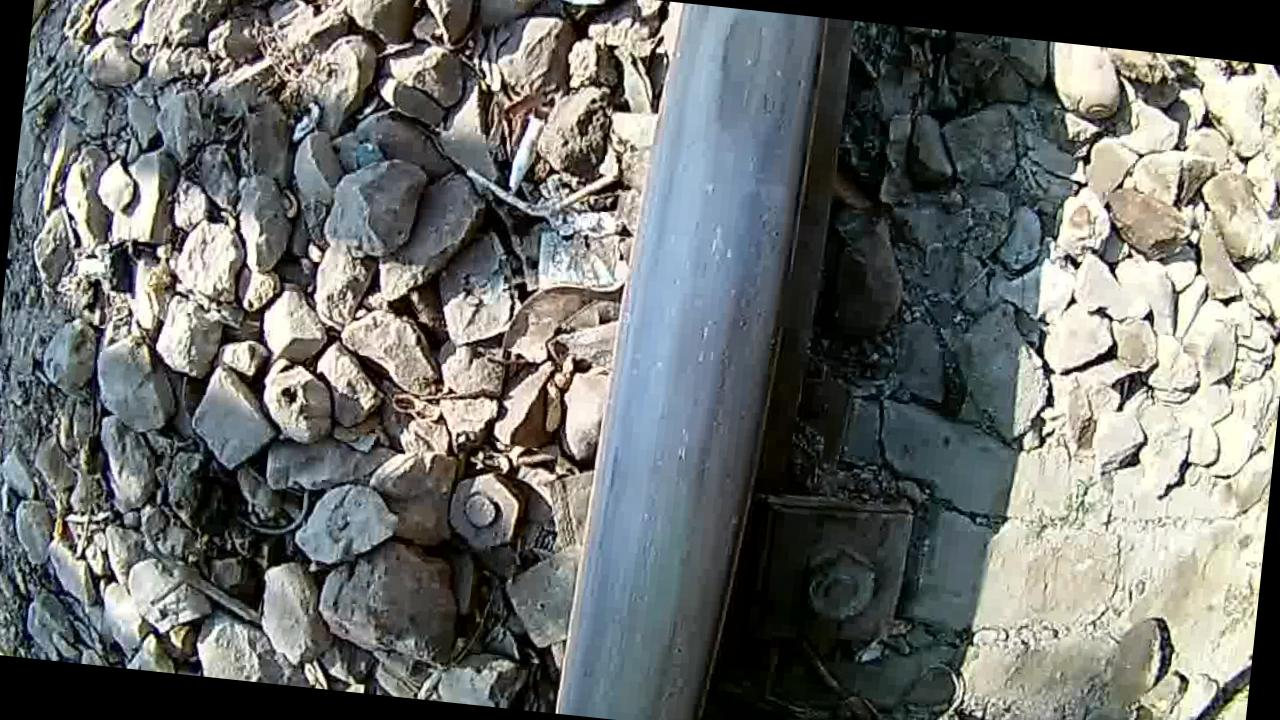bolt_missing: (707, 6, 782, 136)
